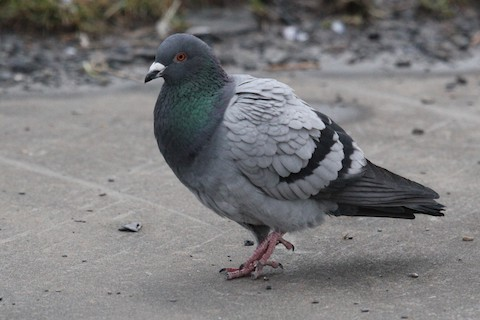pigeon: (143, 30, 449, 282)
